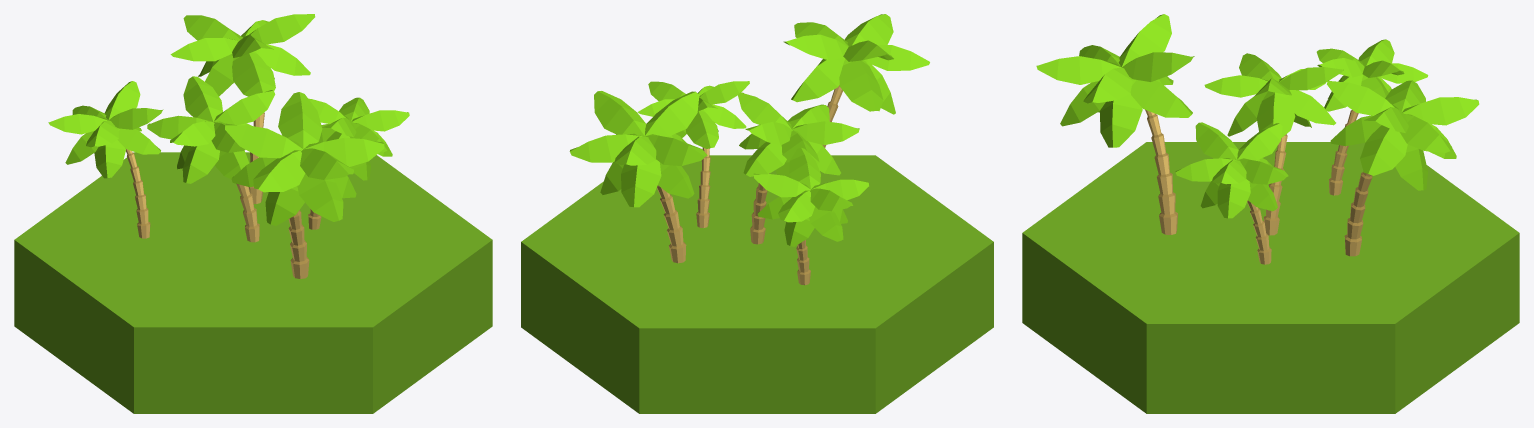
The model's file is Palmeras.fbx.
3 views of the same model, side by side, from view 1: azimuth 30°, elevation 25°; view 2: azimuth 150°, elevation 25°; view 3: azimuth 270°, elevation 25° (orthographic). The views are drawn at different scales.
Visible parts, largest first — view 1: Palmeras; view 2: Palmeras; view 3: Palmeras.
Boxes of the visible parts, x1,y1,x2,y2 form: Palmeras: [14, 14, 492, 413]; Palmeras: [521, 14, 993, 413]; Palmeras: [1022, 14, 1519, 413].
Bounding box in the file's own units: 86.6 × 60.02 × 100.
Materials: 1 (1 with a texture image).
